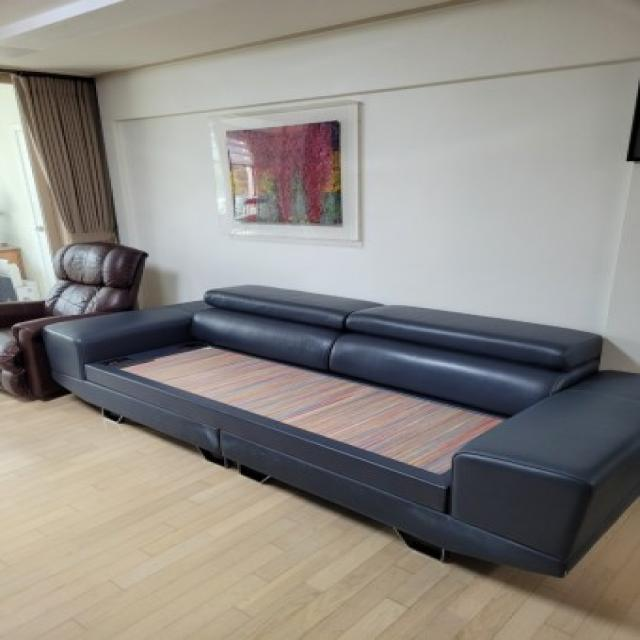Chair: (7, 242, 124, 396)
Sofa: (53, 287, 626, 580)
